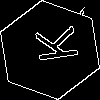K: (25, 25, 79, 65)
